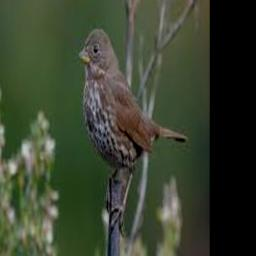Sparrow: (79, 27, 188, 236)
